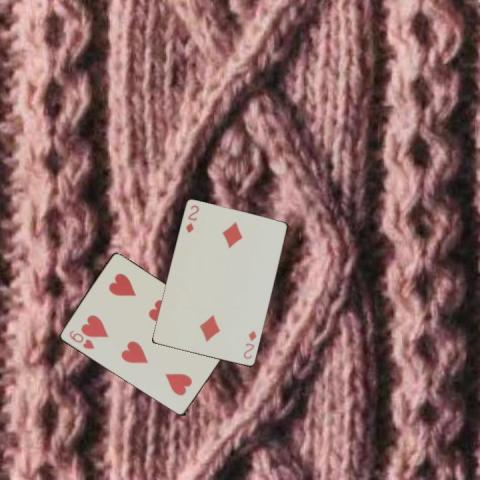2d: (241, 328, 258, 361), (183, 202, 200, 235)
6h: (66, 327, 95, 351)
